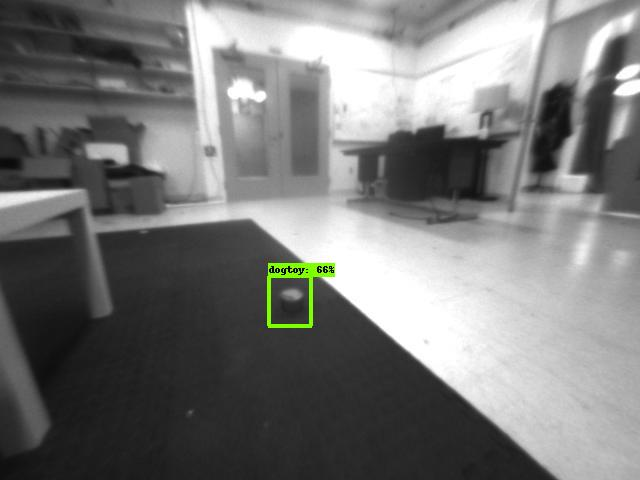dogtoy: (266, 274, 311, 322)
